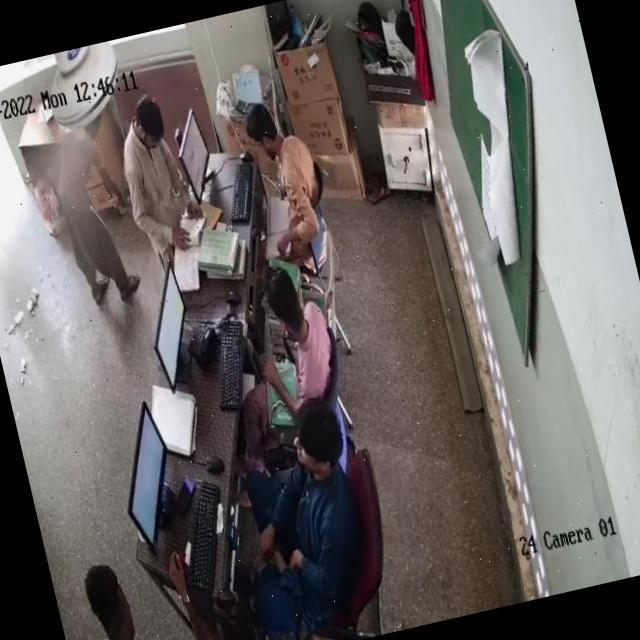person: (225, 392, 394, 640), (242, 259, 336, 412), (49, 134, 138, 288), (244, 96, 326, 254), (112, 94, 194, 250), (73, 550, 174, 640), (174, 555, 266, 640)
